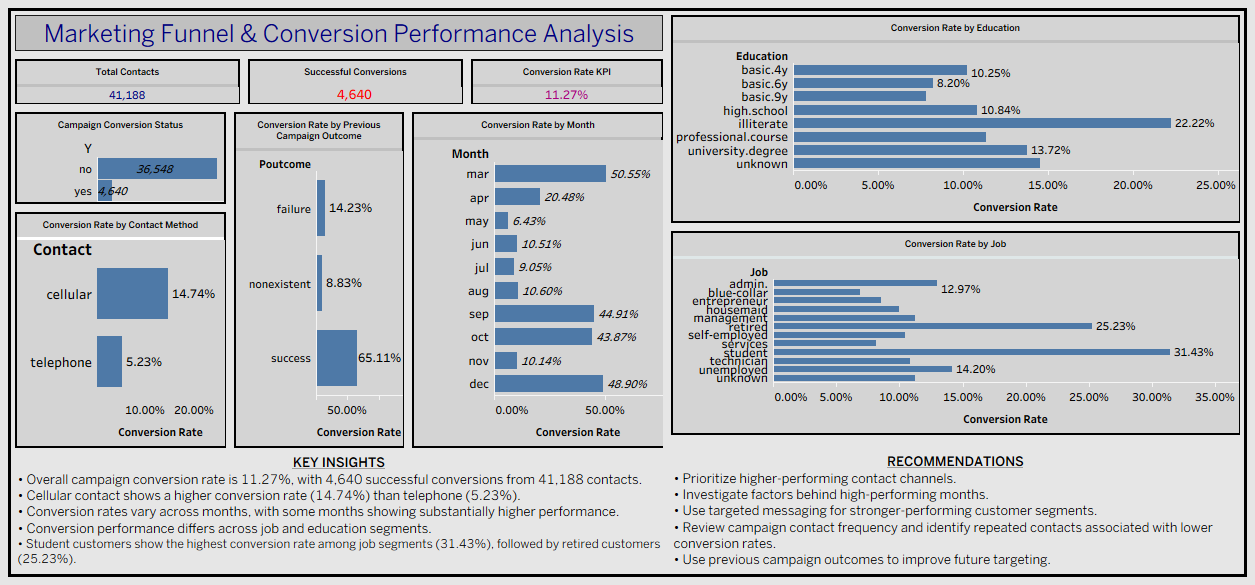

What the dashboard file says about the page in this screenshot:
{"tool":"tableau","page":{"name":"Dashboard 1","canvas":[1000,1000],"units":"permille","ordinal":0},"visuals":[{"type":"title","box":[8.8,18.8,522.9,75.2]},{"type":"worksheet","title":"Sheet 8","mark":"Automatic","rows":["Education"],"cols":["Calculation_1319738419523584"],"box":[531.6,18.8,459.6,369.2]},{"type":"worksheet","title":"Sheet 3","mark":"Automatic","box":[8.8,94,185.8,89.8]},{"type":"worksheet","title":"Sheet 5","mark":"Automatic","box":[194.5,94,177.9,89.8]},{"type":"worksheet","title":"Sheet 2","mark":"Text","box":[372.4,94,159.2,89.8]},{"type":"worksheet","title":"Sheet 1","mark":"Automatic","rows":["Y"],"cols":["Y"],"box":[8.8,183.8,174.3,171.2]},{"type":"worksheet","title":"Sheet 9","mark":"Automatic","rows":["Poutcome"],"cols":["Calculation_1319738419523584"],"box":[183,183.8,141.8,588.8]},{"type":"worksheet","title":"Sheet 7","mark":"Automatic","rows":["Month"],"cols":["Calculation_1319738419523584"],"box":[324.8,183.8,206.8,588.8]},{"type":"worksheet","title":"Sheet 6","mark":"Automatic","rows":["Contact"],"cols":["Calculation_1319738419523584"],"box":[8.8,355.1,174.3,417.6]},{"type":"worksheet","title":"Sheet 4","mark":"Automatic","rows":["Job"],"cols":["Calculation_1319738419523584"],"box":[531.6,388.1,459.6,362.4]},{"type":"text","box":[8.8,772.6,522.9,208.6]},{"type":"text","box":[531.6,772.6,459.6,208.6]}]}

Visuals, with their boxes on the dashboard's canvas, which has no fixed pixel size, in thousandths of its width and height (x1, y1, x2, y2). These are canvas units, not pixel positions in the 1255x585 screenshot, which may show the page scaled, cropped or inside an application window:
title: [left=9, top=19, right=532, bottom=94]
"Sheet 8" worksheet: [left=532, top=19, right=991, bottom=388]
"Sheet 3" worksheet: [left=9, top=94, right=195, bottom=184]
"Sheet 5" worksheet: [left=194, top=94, right=372, bottom=184]
"Sheet 2" worksheet (Text marks): [left=372, top=94, right=532, bottom=184]
"Sheet 1" worksheet: [left=9, top=184, right=183, bottom=355]
"Sheet 9" worksheet: [left=183, top=184, right=325, bottom=773]
"Sheet 7" worksheet: [left=325, top=184, right=532, bottom=773]
"Sheet 6" worksheet: [left=9, top=355, right=183, bottom=773]
"Sheet 4" worksheet: [left=532, top=388, right=991, bottom=750]
text: [left=9, top=773, right=532, bottom=981]
text: [left=532, top=773, right=991, bottom=981]
